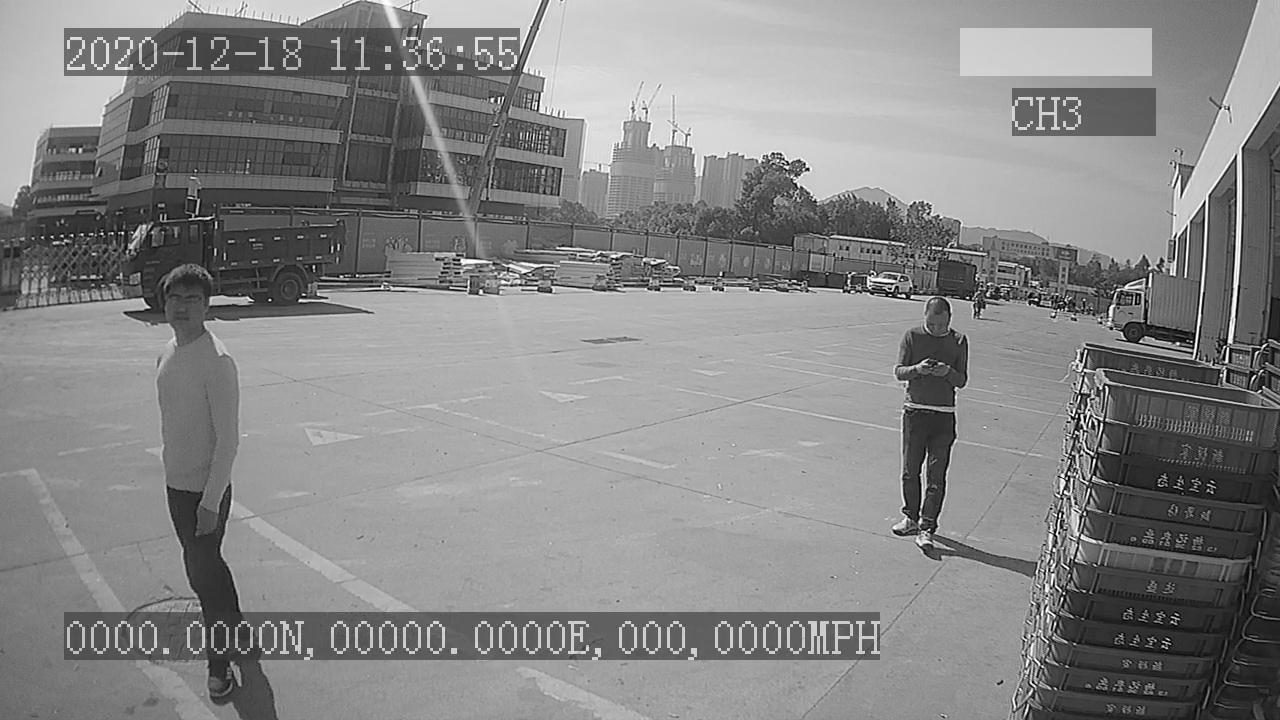person: (891, 296, 970, 560)
